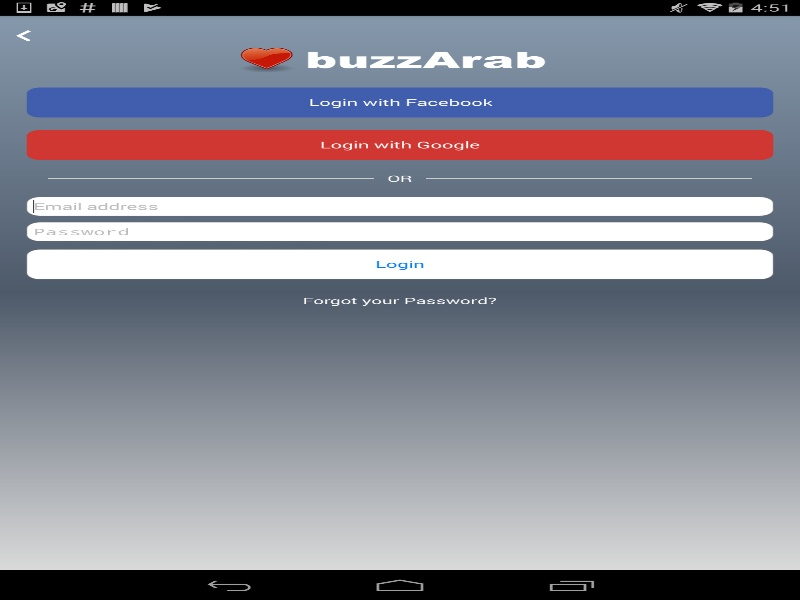Button: (26, 87, 773, 117), (26, 130, 773, 160), (26, 249, 773, 279), (302, 285, 496, 315), (0, 25, 48, 47)
Input: (26, 196, 773, 215), (26, 222, 773, 241)
